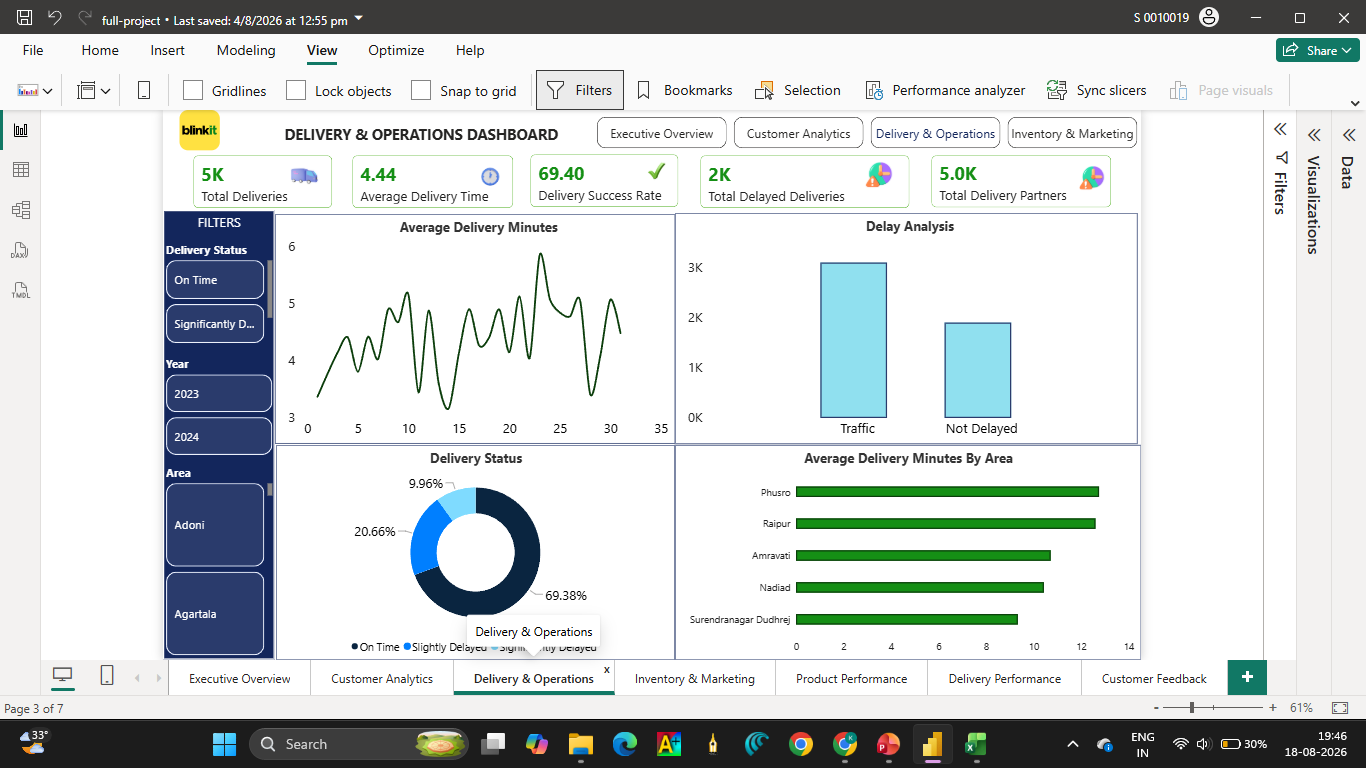

What the dashboard file says about the page in this screenshot:
{"tool":"powerbi","page":{"name":"Delivery & Operations","canvas":[1600,900],"ordinal":2},"visuals":[{"type":"shape","box":[0,162.9,182.9,735.7],"z":0},{"type":"donutChart","title":"Delivery Status","fields":{"Category":["blinkit_delivery_performance1.delivery_status"],"Y":["Sum(blinkit_orders1.order_total)"]},"box":[184.9,548.2,652.9,351.8],"z":1000},{"type":"lineChart","title":"Average Delivery Minutes","fields":{"Category":["blinkit_orders1.order_date.Variation.Date Hierarchy.Day"],"Y":["Avg(blinkit_delivery_performance1.delivery_time_minutes)"]},"box":[183.3,170.2,654.5,376.4],"z":2000},{"type":"cardVisual","fields":{"Data":["Avg(blinkit_delivery_performance1.delivery_time_minutes)"]},"box":[293.1,56.9,297,120.9],"z":3000,"group":"g5"},{"type":"clusteredColumnChart","title":"Delay Analysis","fields":{"Category":["blinkit_delivery_performance1.reasons_if_delayed"],"Y":["CountNonNull(blinkit_delivery_performance1.order_id)"]},"box":[838.5,169.2,756.9,378.5],"z":3000},{"type":"group","id":"g1","title":"Group 1","box":[0,0,711.4,65.7],"z":4000},{"type":"cardVisual","fields":{"Data":["blinkit_customer_feedback1.Delivery Success Rate"]},"box":[584.7,55.6,276.1,120.9],"z":4000,"group":"g4"},{"type":"cardVisual","fields":{"Data":["Count(blinkit_delivery_performance1.delivery_partner_id)"]},"box":[1240.3,56.9,328.4,119.4],"z":4000,"group":"g3"},{"type":"cardVisual","fields":{"Data":["blinkit_customer_feedback1.Total Deliveries"]},"box":[31.9,56.9,261,120.6],"z":5000,"group":"g6"},{"type":"advancedSlicerVisual","title":"Delivery Status","fields":{"Values":["blinkit_delivery_performance1.delivery_status"]},"box":[0,215.7,184.3,172.9],"z":5000},{"type":"cardVisual","fields":{"Data":["blinkit_customer_feedback1.total delayed delivery"]},"box":[861.7,57.6,376.1,120.9],"z":6000,"group":"g2"},{"type":"advancedSlicerVisual","fields":{"Values":["blinkit_orders1.order_date.Variation.Date Hierarchy.Year"]},"box":[0,402.9,184.1,168.1],"z":6000},{"type":"clusteredBarChart","title":"Average Delivery Minutes By Area","fields":{"Category":["blinkit_customers1.area"],"Y":["Avg(blinkit_delivery_performance1.delivery_time_minutes)"]},"box":[837.8,548.2,762.5,351.8],"z":7000},{"type":"group","id":"g2","title":"Group 2","box":[861.7,57.6,376.1,120.9],"z":8000},{"type":"group","id":"g3","title":"Group 3","box":[1240.3,56.9,329.2,120.8],"z":9000},{"type":"image","box":[0,0,120.3,65.7],"z":10000,"group":"g1"},{"type":"advancedSlicerVisual","title":"Area","fields":{"Values":["blinkit_customers1.area"]},"box":[0,581.4,184.3,318.6],"z":10000},{"type":"group","id":"g4","title":"Group 4","box":[584.7,55.6,276.4,120.8],"z":11000},{"type":"image","box":[1497.7,78.7,44.9,65.2],"z":11002,"group":"g3"},{"type":"image","box":[1144,82,52.2,47.8],"z":11002,"group":"g2"},{"type":"group","id":"g5","title":"Group 5","box":[293.1,56.9,297.2,120.8],"z":12000},{"type":"image","box":[789.9,67.8,36.2,65.2],"z":12002,"group":"g4"},{"type":"image","box":[515.8,90.1,40,38.5],"z":12003,"group":"g5"},{"type":"image","box":[203.4,69.9,52.3,66.2],"z":12006,"group":"g6"},{"type":"textbox","box":[120.3,2.1,591.2,63.6],"z":13000,"group":"g1"},{"type":"group","id":"g6","title":"Group 6","box":[31.9,56.9,261.1,120.8],"z":13000},{"type":"pageNavigator","box":[710,11.4,884.3,51.4],"z":14000},{"type":"textbox","box":[0,162.9,184.3,52.9],"z":15000}]}

Visuals, with their boxes on the page's 1600x900 design canvas (x1, y1, x2, y2). These are canvas units, not pixel positions in the 1366x768 screenshot, which may show the page scaled, cropped or inside an application window:
shape: {"left": 0, "top": 163, "right": 183, "bottom": 899}
"Delivery Status" donutChart: {"left": 185, "top": 548, "right": 838, "bottom": 900}
"Average Delivery Minutes" lineChart: {"left": 183, "top": 170, "right": 838, "bottom": 547}
cardVisual - Avg(blinkit_delivery_performance1.delivery_time_minutes): {"left": 293, "top": 57, "right": 590, "bottom": 178}
"Delay Analysis" clusteredColumnChart: {"left": 838, "top": 169, "right": 1595, "bottom": 548}
"Group 1" group: {"left": 0, "top": 0, "right": 711, "bottom": 66}
cardVisual - blinkit_customer_feedback1.Delivery Success Rate: {"left": 585, "top": 56, "right": 861, "bottom": 176}
cardVisual - Count(blinkit_delivery_performance1.delivery_partner_id): {"left": 1240, "top": 57, "right": 1569, "bottom": 176}
cardVisual - blinkit_customer_feedback1.Total Deliveries: {"left": 32, "top": 57, "right": 293, "bottom": 178}
"Delivery Status" advancedSlicerVisual: {"left": 0, "top": 216, "right": 184, "bottom": 389}
cardVisual - blinkit_customer_feedback1.total delayed delivery: {"left": 862, "top": 58, "right": 1238, "bottom": 178}
advancedSlicerVisual - blinkit_orders1.order_date.Variation.Date Hierarchy.Year: {"left": 0, "top": 403, "right": 184, "bottom": 571}
"Average Delivery Minutes By Area" clusteredBarChart: {"left": 838, "top": 548, "right": 1600, "bottom": 900}
"Group 2" group: {"left": 862, "top": 58, "right": 1238, "bottom": 178}
"Group 3" group: {"left": 1240, "top": 57, "right": 1570, "bottom": 178}
image: {"left": 0, "top": 0, "right": 120, "bottom": 66}
"Area" advancedSlicerVisual: {"left": 0, "top": 581, "right": 184, "bottom": 900}
"Group 4" group: {"left": 585, "top": 56, "right": 861, "bottom": 176}
image: {"left": 1498, "top": 79, "right": 1543, "bottom": 144}
image: {"left": 1144, "top": 82, "right": 1196, "bottom": 130}
"Group 5" group: {"left": 293, "top": 57, "right": 590, "bottom": 178}
image: {"left": 790, "top": 68, "right": 826, "bottom": 133}
image: {"left": 516, "top": 90, "right": 556, "bottom": 129}
image: {"left": 203, "top": 70, "right": 256, "bottom": 136}
textbox: {"left": 120, "top": 2, "right": 712, "bottom": 66}
"Group 6" group: {"left": 32, "top": 57, "right": 293, "bottom": 178}
pageNavigator: {"left": 710, "top": 11, "right": 1594, "bottom": 63}
textbox: {"left": 0, "top": 163, "right": 184, "bottom": 216}
